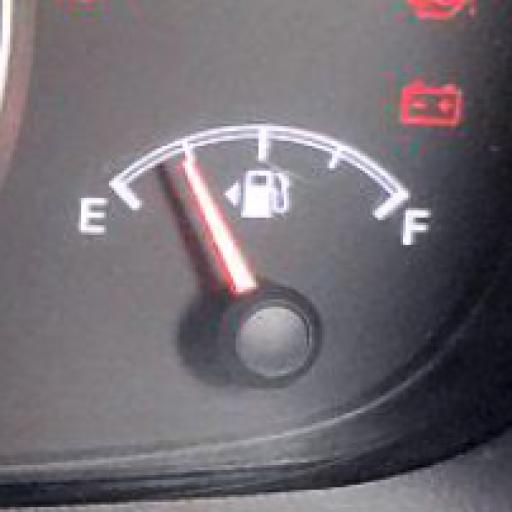empty: (72, 193, 112, 237)
fuel_icon: (221, 164, 291, 223)
full: (395, 203, 439, 254)
guage_area: (22, 31, 490, 512)
needle_center: (192, 267, 331, 389)
needle_tip: (178, 158, 217, 204)
